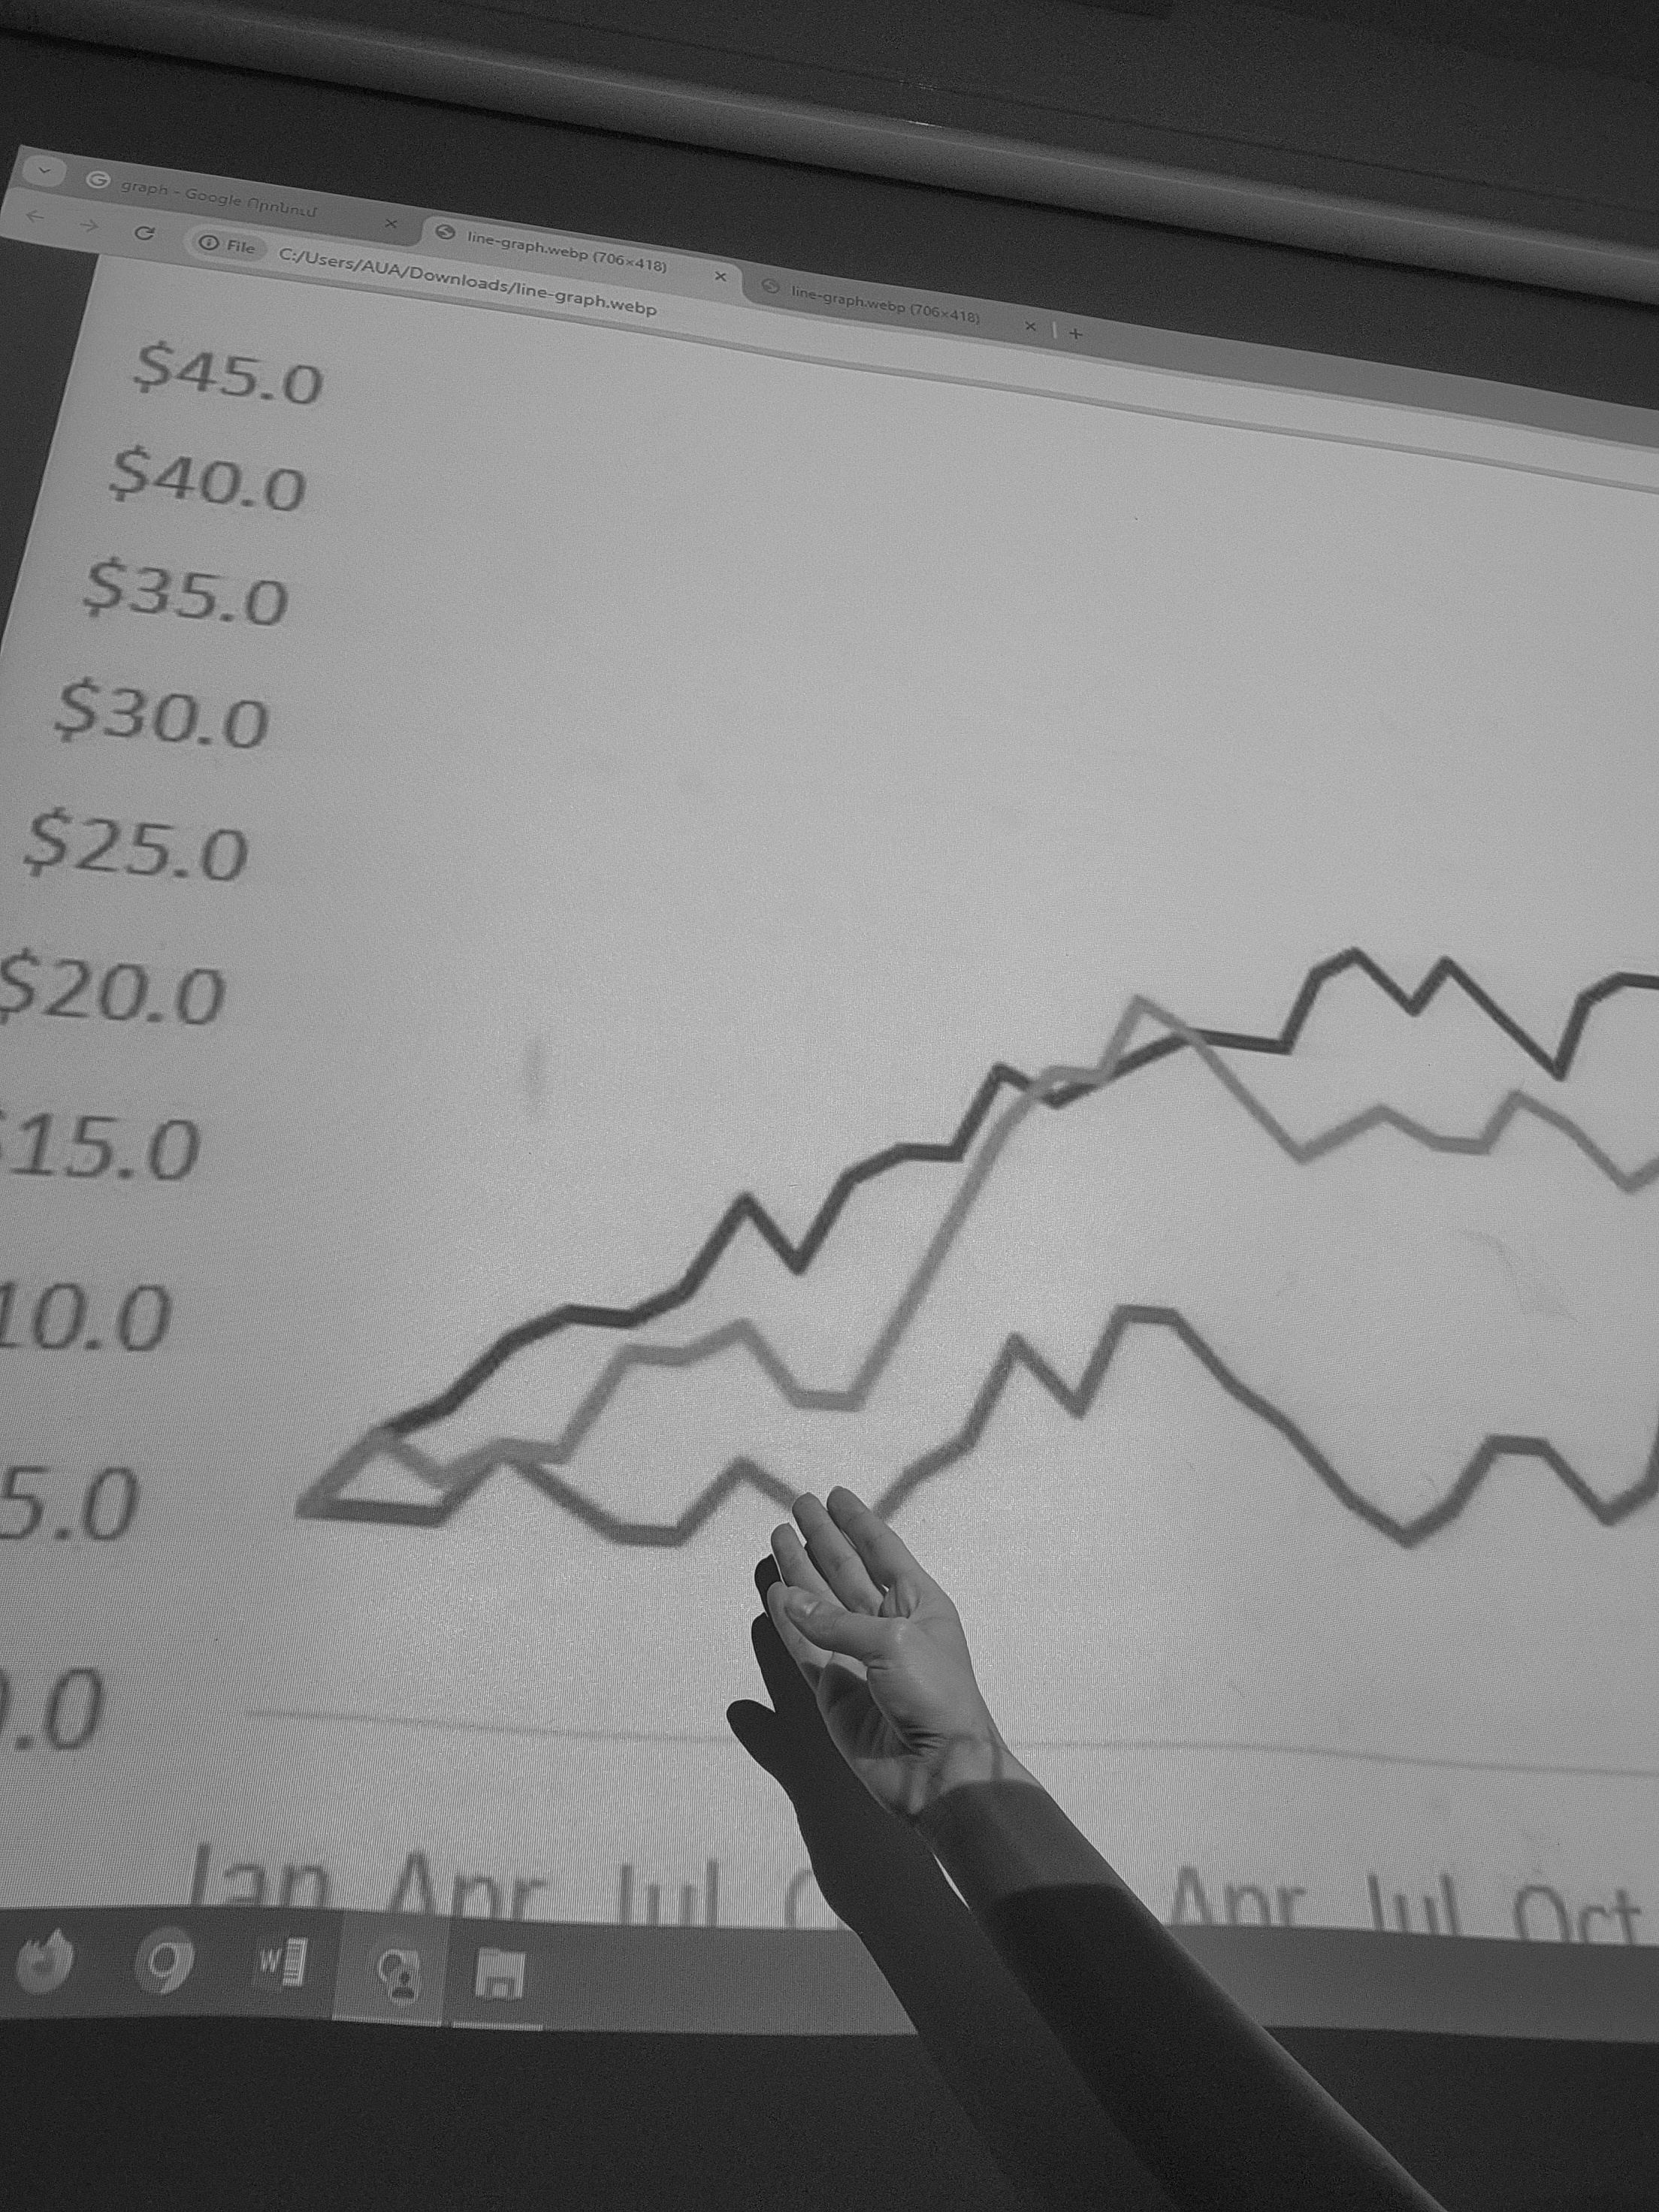pointing_gesture: (758, 1479, 1007, 1831)
